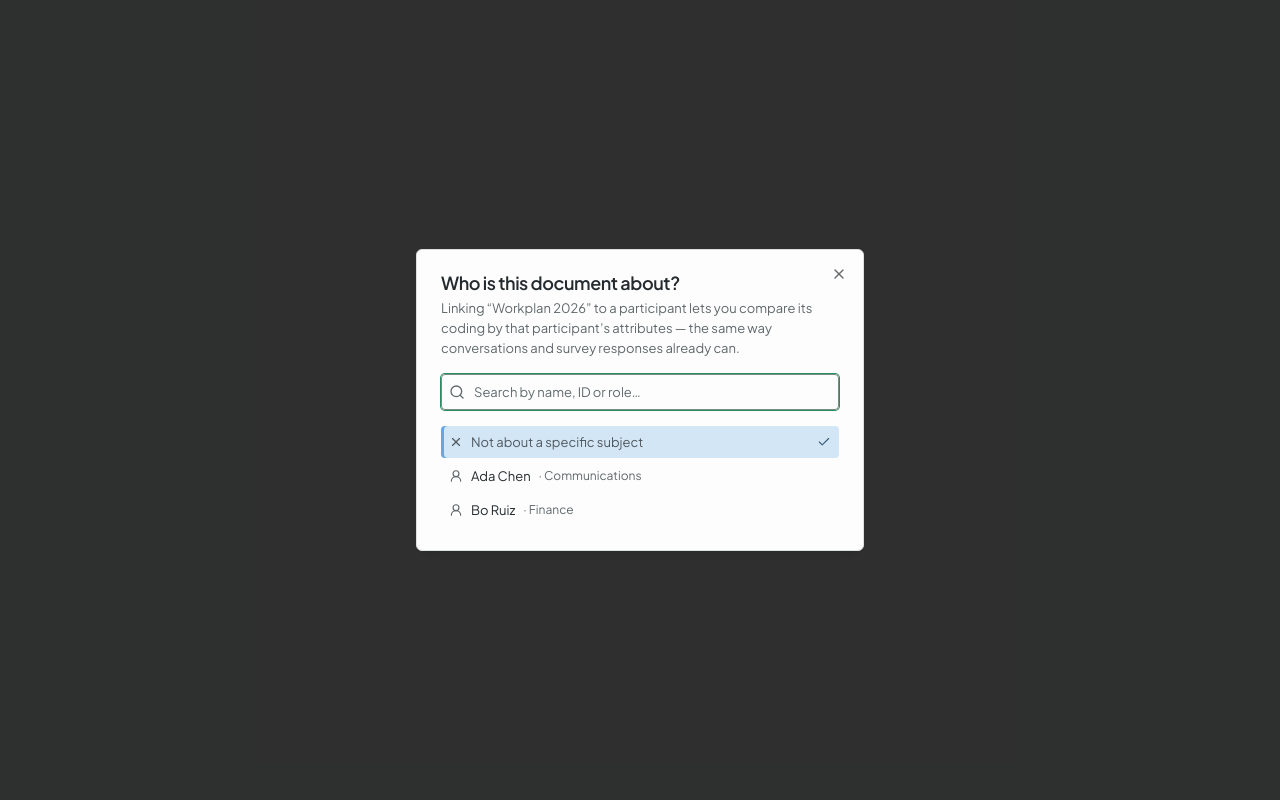
Test case: DocumentSubjectDialog › keeps the clear option reachable while a search excludes everything
Check: the button "Ada Chen · Communications" is shown, box [441,460,839,492]
In the field named "Search participants by name, ID or role": (640, 392) [441,374,839,410], type "zzzz"
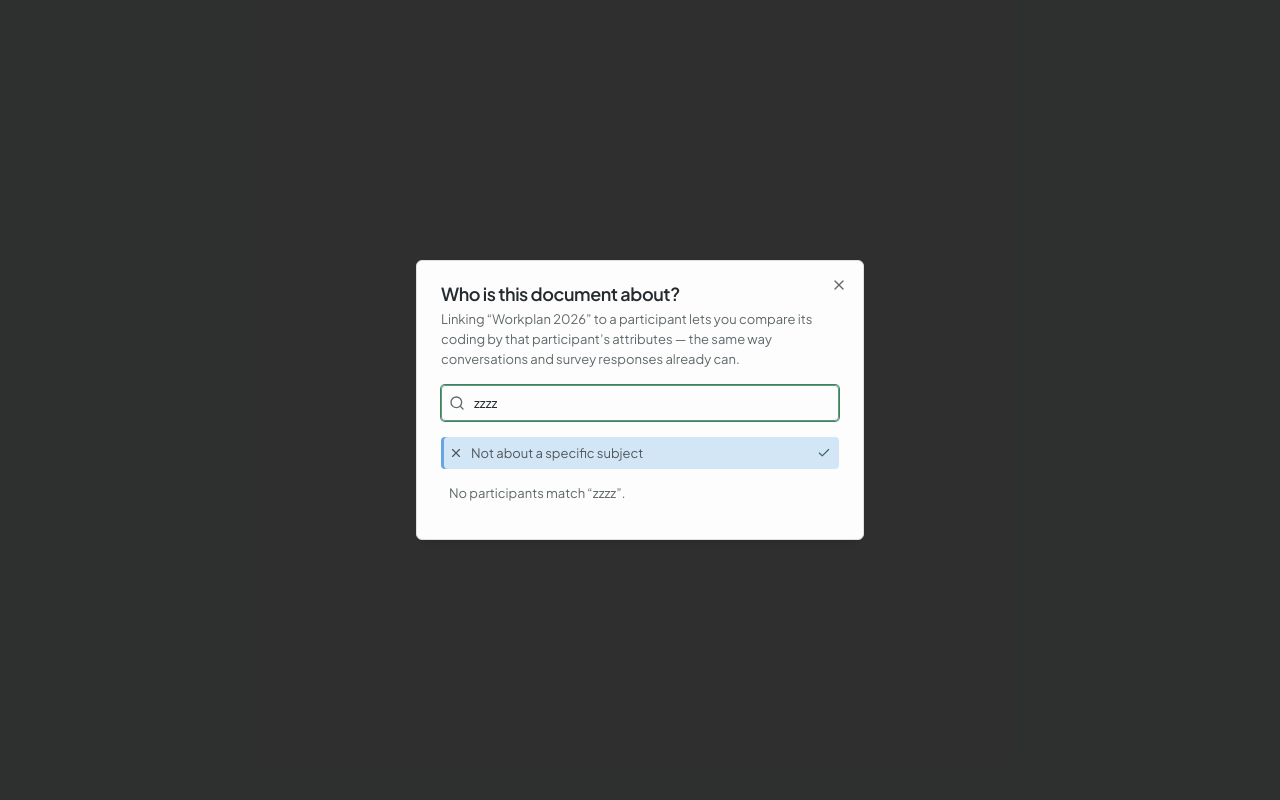
Check: the button "Not about a specific subject" is shown, box [441,437,839,469]
Check: the button "Ada Chen" is gone
